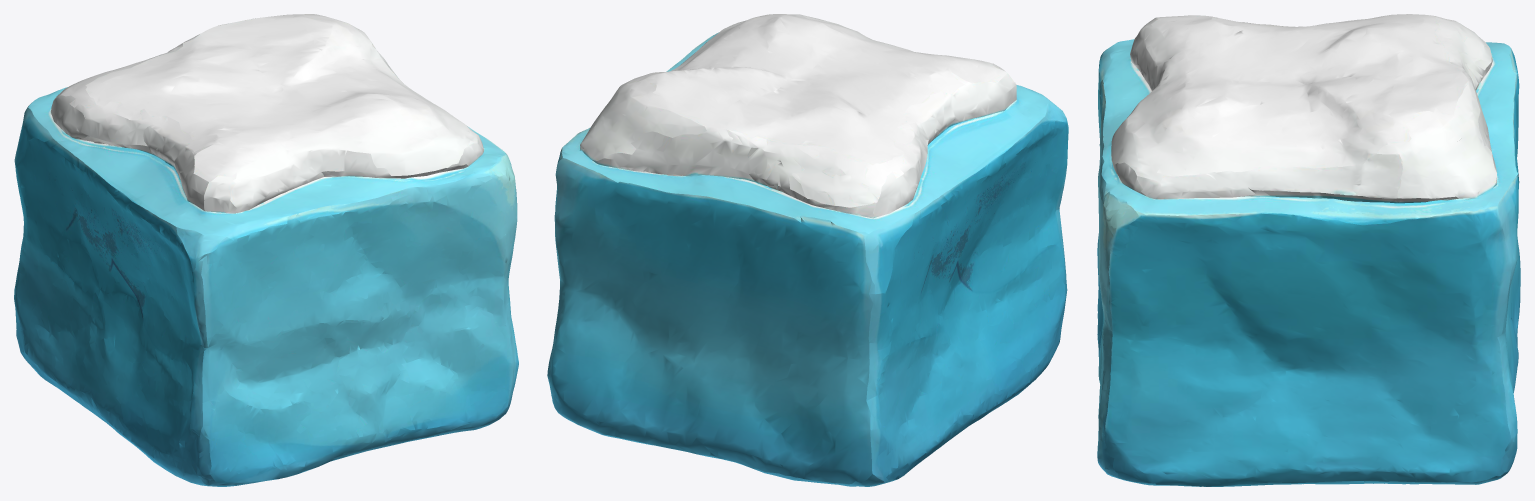
File: item_ice_block.glb
3 renders of one model, left to right at view 1: azimuth 30°, elevation 25°; view 2: azimuth 150°, elevation 25°; view 3: azimuth 270°, elevation 25°, orthographic. The views are drawn at different scales.
Parts seen in each view (by area): view 1: item_ice_block; view 2: item_ice_block; view 3: item_ice_block.
Part boxes in pixels (box(x1,y1,x2,y2)): item_ice_block: box(14, 14, 518, 486); item_ice_block: box(547, 14, 1068, 486); item_ice_block: box(1097, 14, 1520, 486).
Bounding box in the file's own units: 0.249 × 0.2289 × 0.25.
1 material, 1 textured.
